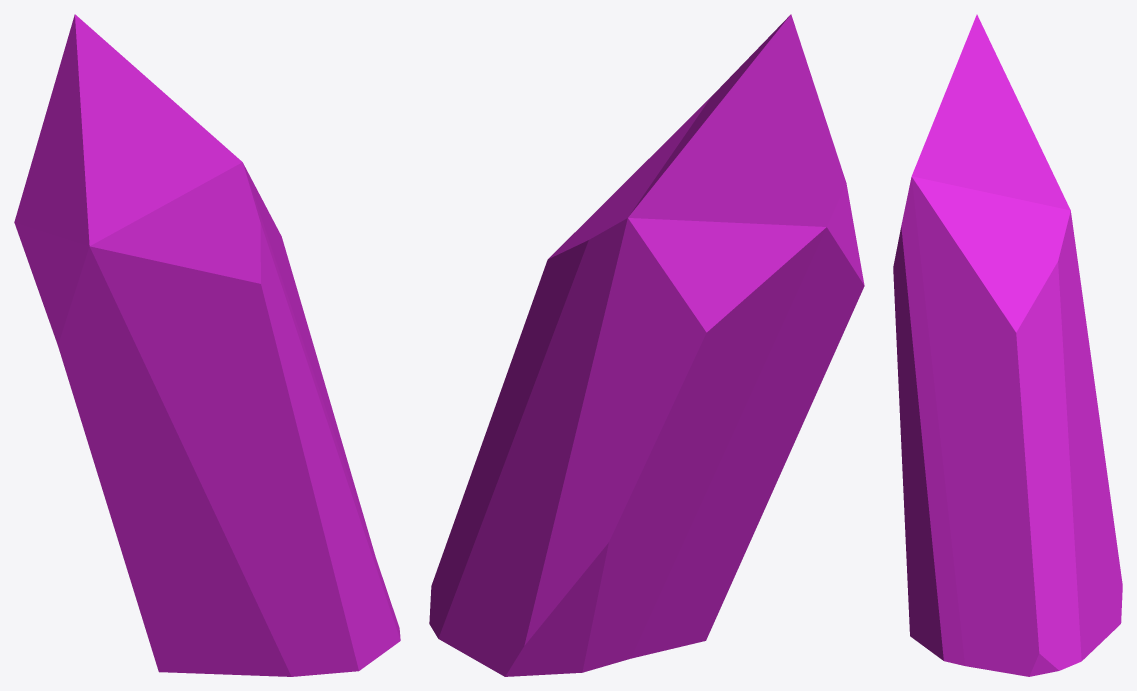
The model's file is Boss Crystal11.fbx.
The picture shows the model from 3 angles, left to right: view 1: azimuth 30°, elevation 25°; view 2: azimuth 150°, elevation 25°; view 3: azimuth 270°, elevation 25°; orthographic projection. The views are drawn at different scales.
Parts seen in each view (by area): view 1: boss crystal.011; view 2: boss crystal.011; view 3: boss crystal.011.
Part boxes in pixels (x1,y1,x2,y2): boss crystal.011: (14, 14, 400, 676); boss crystal.011: (429, 14, 864, 676); boss crystal.011: (893, 14, 1122, 676).
Bounding box in the file's own units: 1.09 × 1.81 × 0.7084.
